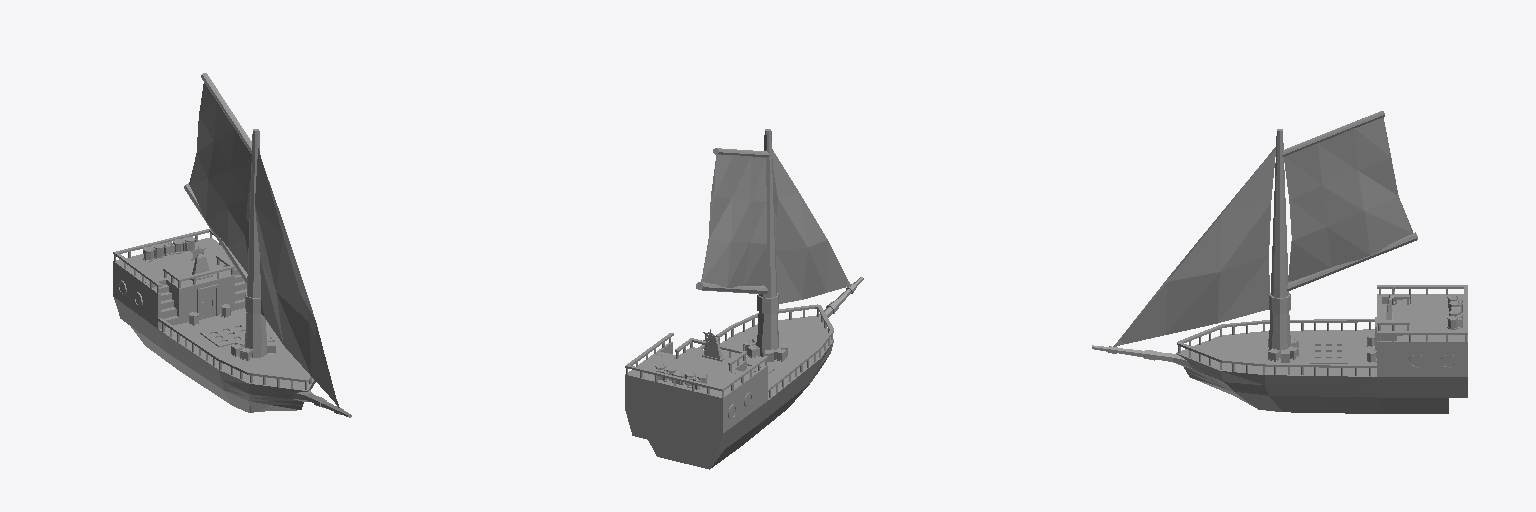
The model's file is pirateship.obj.
The picture shows the model from 3 angles: view 1: azimuth 30°, elevation 25°; view 2: azimuth 150°, elevation 25°; view 3: azimuth 270°, elevation 25°; orthographic projection.
Visible parts, largest first — view 1: boat_Cube; view 2: boat_Cube; view 3: boat_Cube.
Part boxes in pixels (left/top/right/bottom): boat_Cube: left=113, top=73, right=351, bottom=417; boat_Cube: left=625, top=129, right=863, bottom=469; boat_Cube: left=1092, top=111, right=1467, bottom=413.
Size of the model in its own units: 7.21 by 19.97 by 23.39.